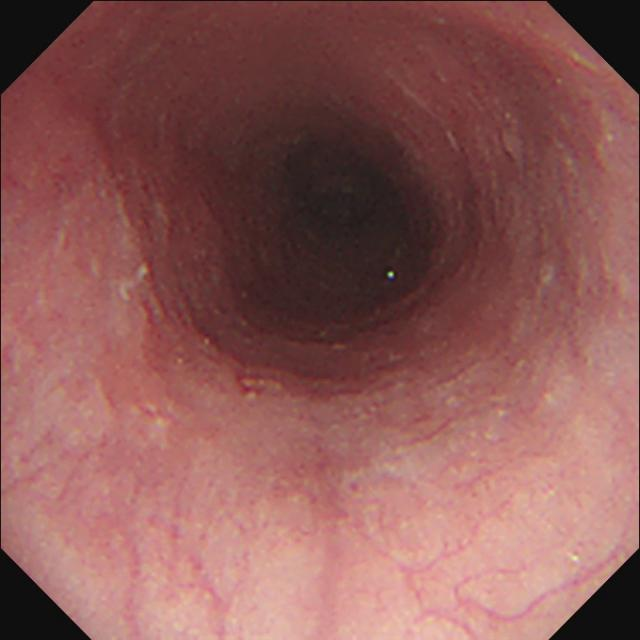E: (213, 119, 453, 334)
